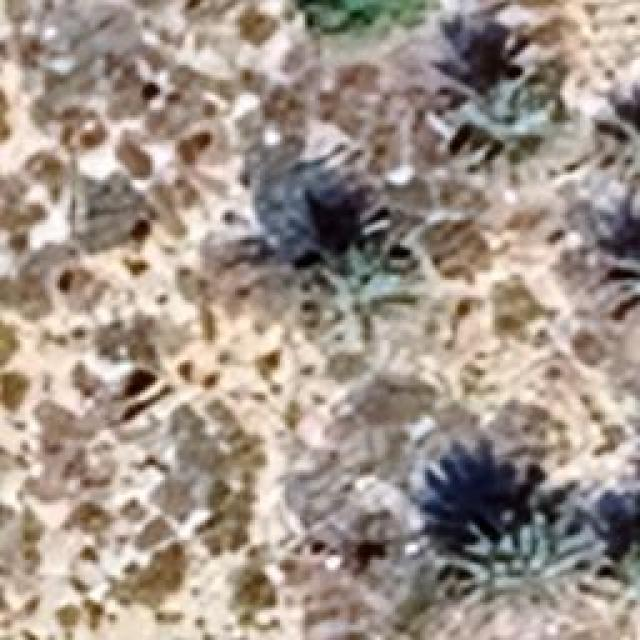PalmTree: (41, 129, 620, 568), (134, 144, 356, 262), (440, 504, 603, 622), (442, 80, 562, 190), (322, 245, 420, 345), (600, 242, 638, 316), (608, 107, 638, 195)
